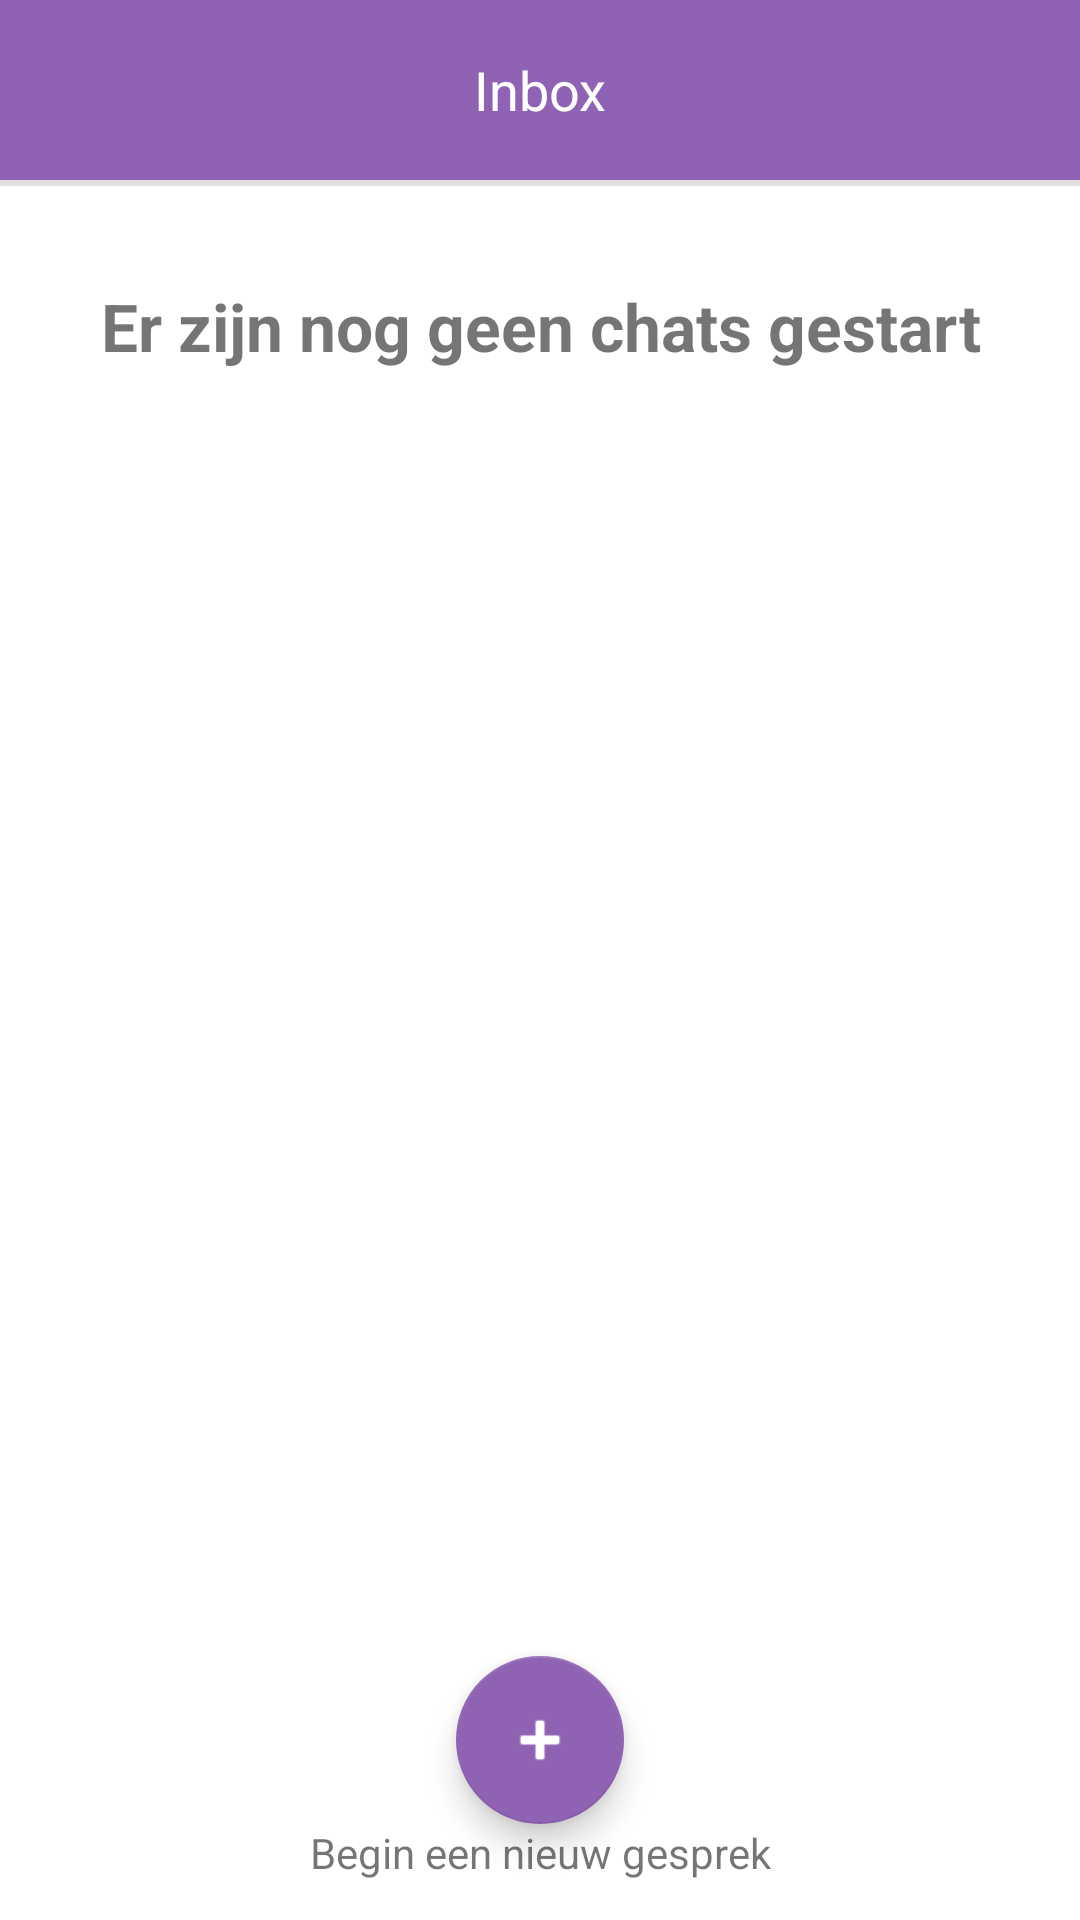

Where icons sit on this 1080x1920 app screen, as detection(x1, y1, x2, y2):
add: detection(456, 1656, 624, 1824)
